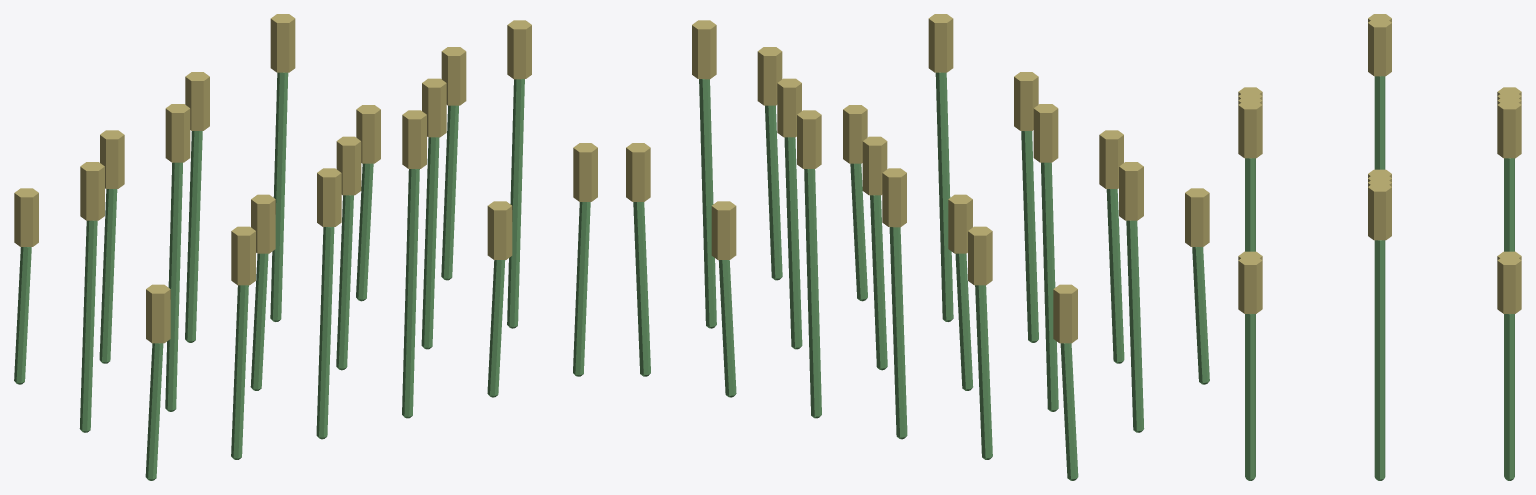
File: briarfen_reed_bed.glb
3 renders of one model, left to right at view 1: azimuth 30°, elevation 25°; view 2: azimuth 150°, elevation 25°; view 3: azimuth 270°, elevation 25°, orthographic.
Bounding box in the file's own units: 1.89 × 1.21 × 1.05.
